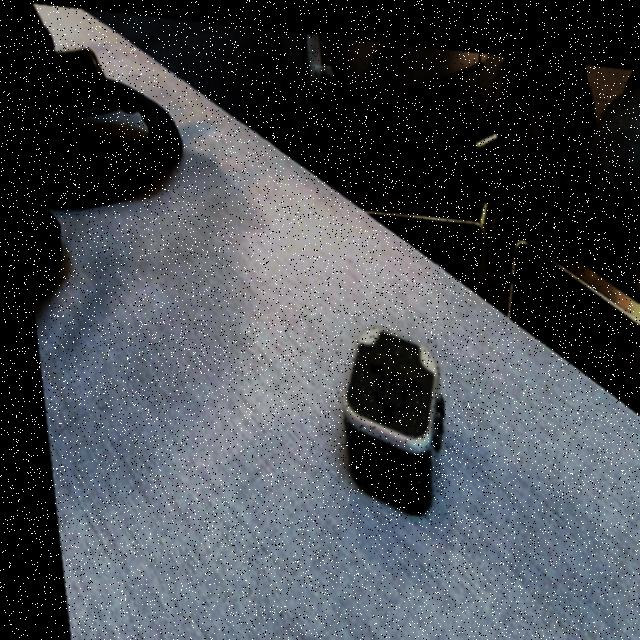adapter: (324, 313, 446, 510)
